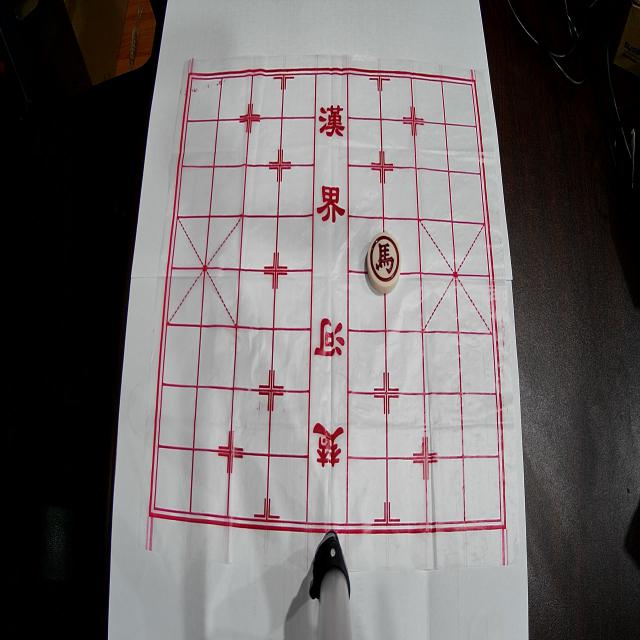red-horse: (367, 232, 402, 294)
